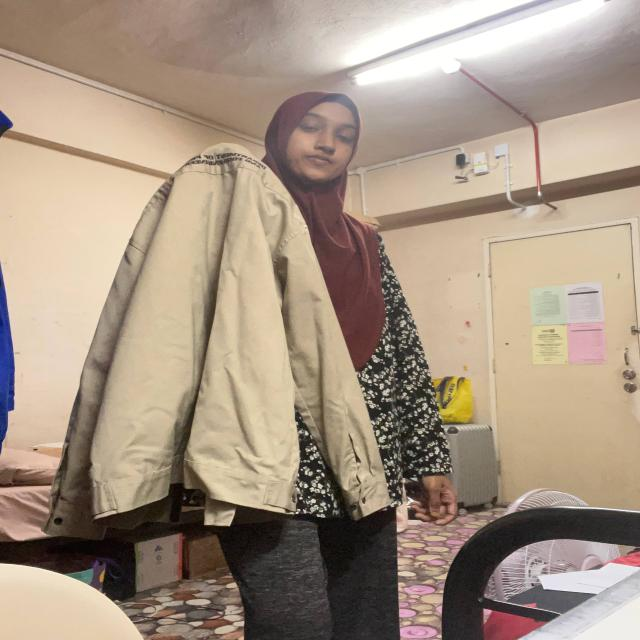person_without_labcoat: (47, 92, 457, 640)
